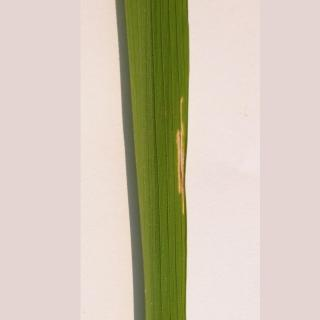Hawar-Daun: (157, 99, 205, 234)
